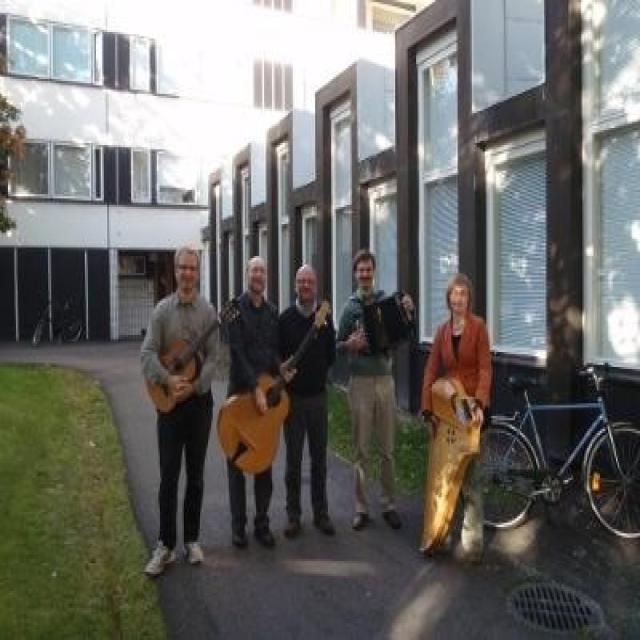guitar: (144, 298, 245, 416)
